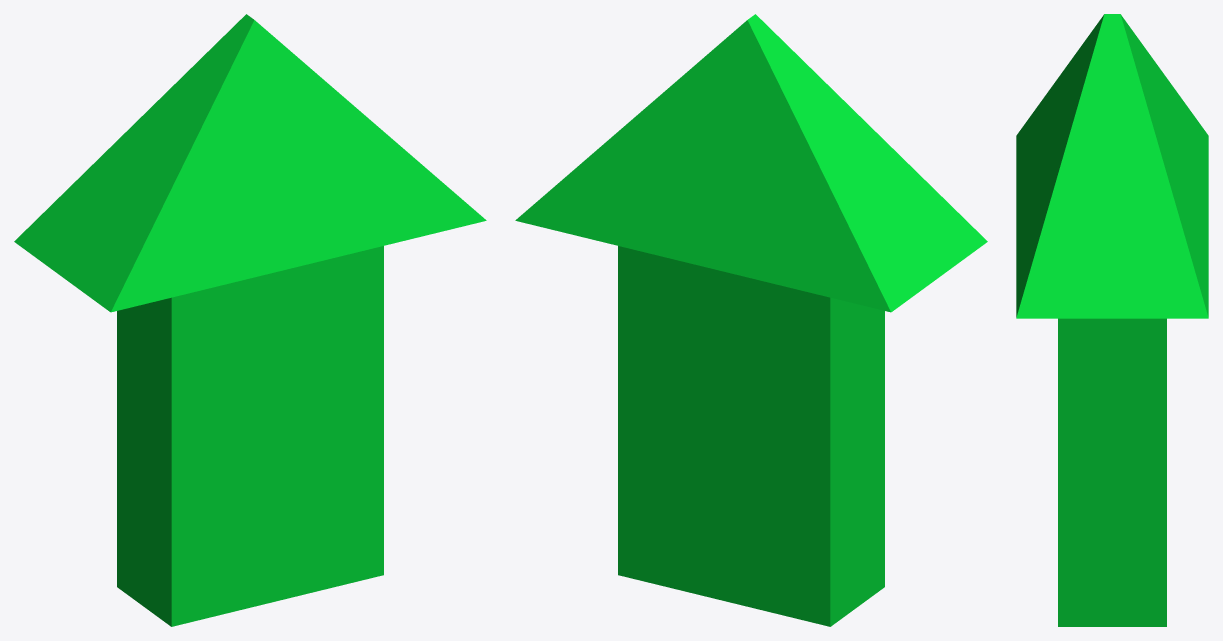
The model's file is upgrade.fbx.
3 views of the same model, side by side, from view 1: azimuth 30°, elevation 25°; view 2: azimuth 150°, elevation 25°; view 3: azimuth 270°, elevation 25° (orthographic).
Parts seen in each view (by area): view 1: Cube; view 2: Cube; view 3: Cube.
Part boxes in pixels (x1,y1,x2,y2): Cube: [14, 14, 486, 626]; Cube: [515, 14, 987, 626]; Cube: [1016, 14, 1208, 626].
Bounding box in the file's own units: 225 × 322 × 100.
